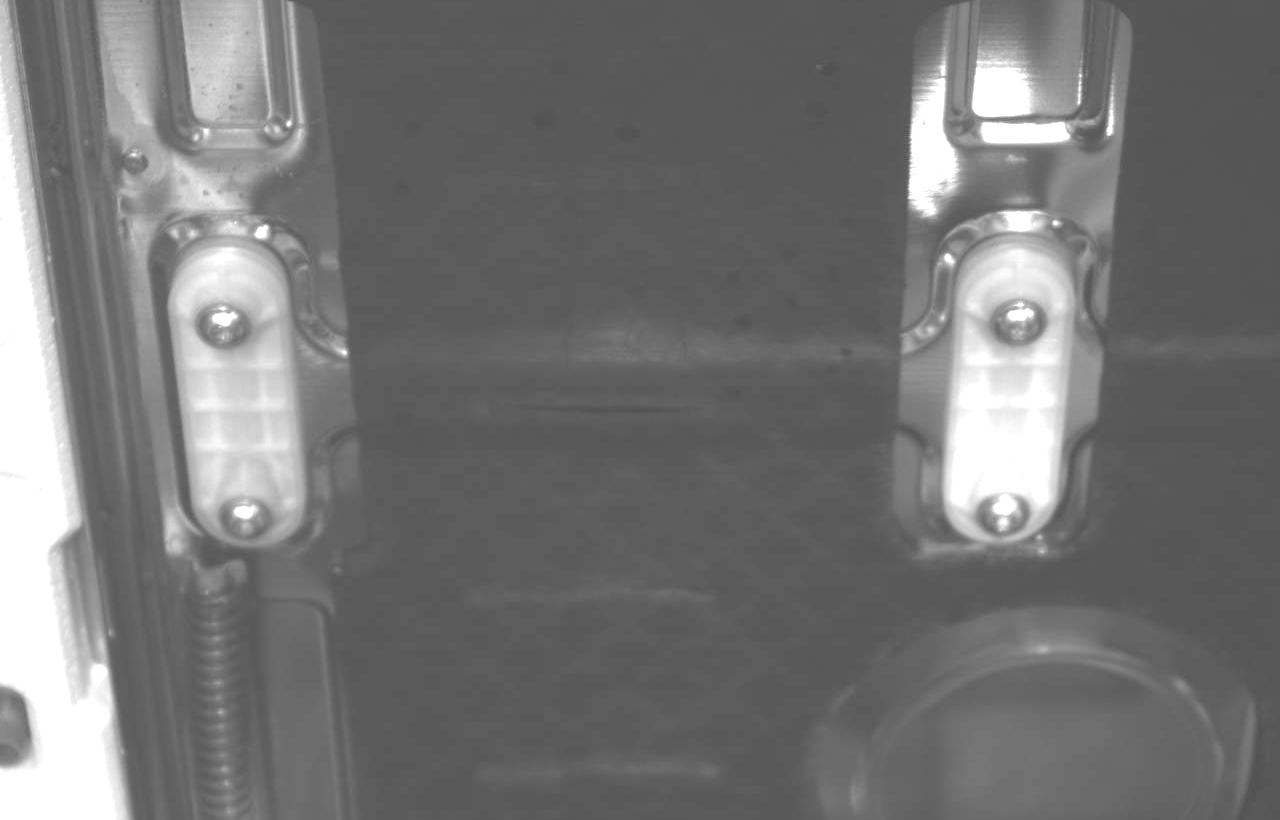vida-ok: (177, 287, 249, 354), (981, 282, 1049, 349), (969, 472, 1034, 541), (211, 488, 277, 547)
